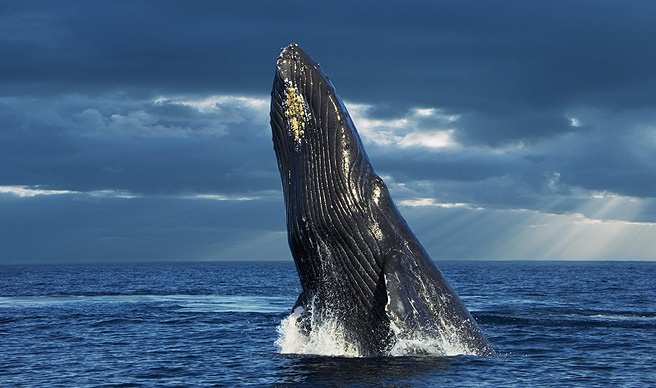humpback: (264, 46, 497, 355)
